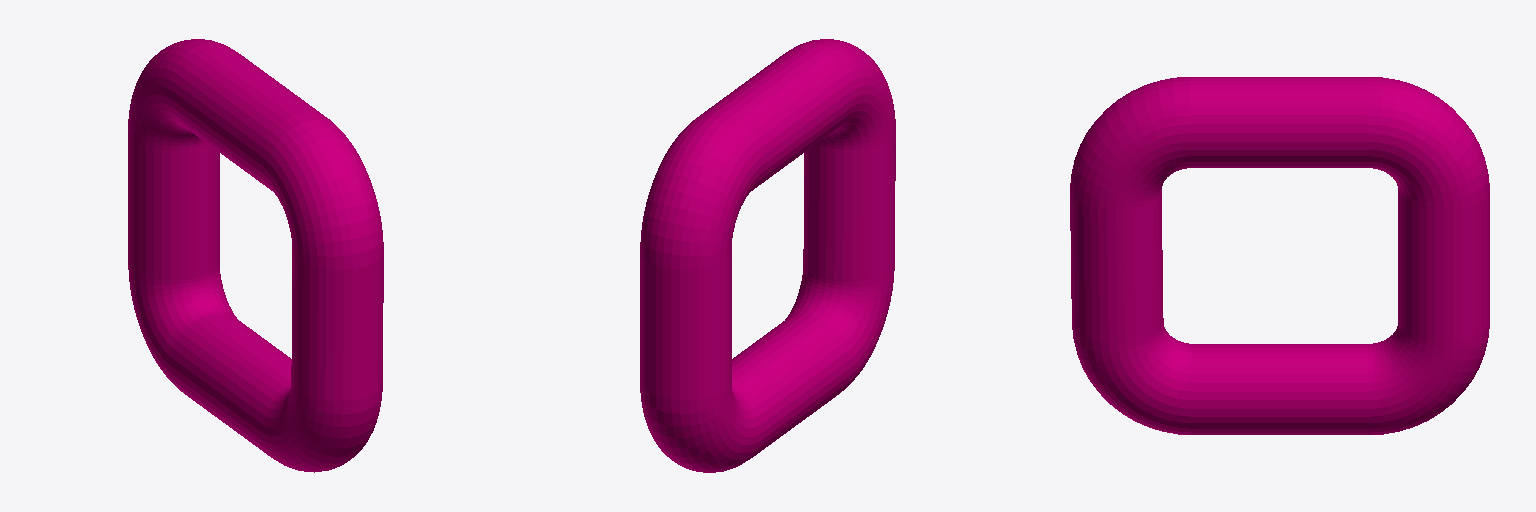
Rendered from square.obj.
3 views of the same model, side by side, from view 1: azimuth 30°, elevation 25°; view 2: azimuth 150°, elevation 25°; view 3: azimuth 270°, elevation 25° (orthographic).
Parts seen in each view (by area): view 1: Circle; view 2: Circle; view 3: Circle.
Boxes of the visible parts, box(x1,y1,x2,y2) form: Circle: box(128, 39, 383, 472); Circle: box(640, 39, 895, 472); Circle: box(1070, 77, 1489, 434).
Size of the model in its own units: 2 by 8.43 by 9.16.